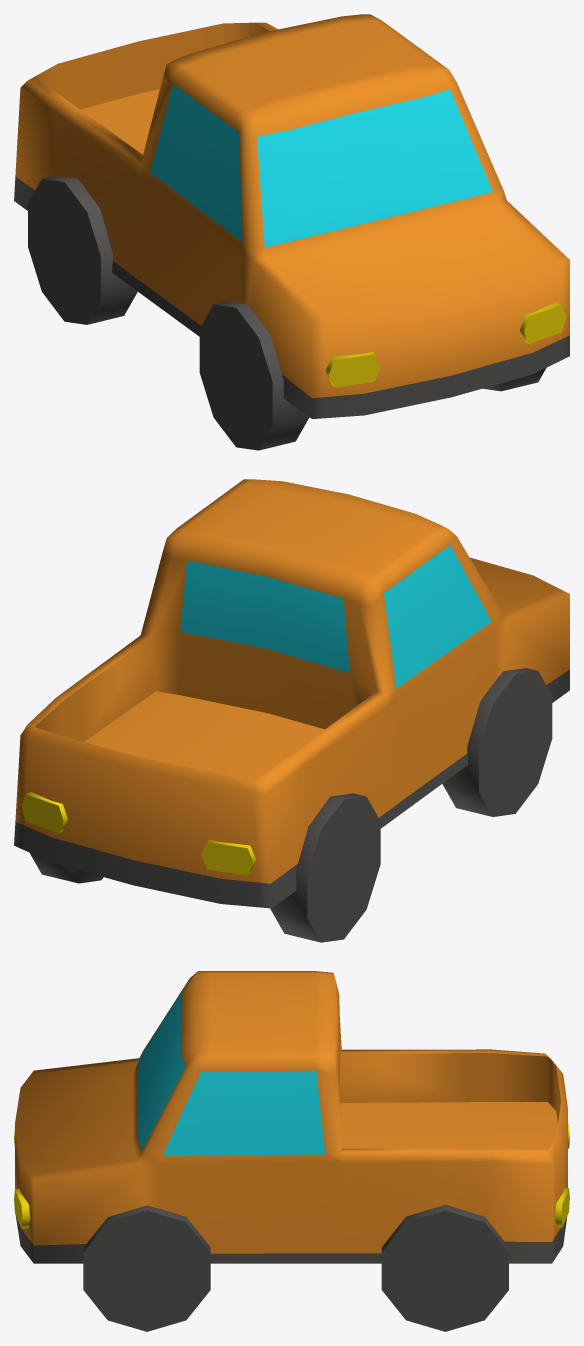
Rendered from Caminhonete.fbx.
The picture shows the model from 3 angles, top to bottom: view 1: azimuth 30°, elevation 25°; view 2: azimuth 150°, elevation 25°; view 3: azimuth 270°, elevation 25°; orthographic projection. The views are drawn at different scales.
Visible parts, largest first — view 1: Caminhonete; view 2: Caminhonete; view 3: Caminhonete.
Part boxes in pixels (box(x1,y1,x2,y2)): Caminhonete: box(14, 14, 569, 450); Caminhonete: box(14, 479, 569, 942); Caminhonete: box(14, 971, 569, 1331).
Size of the model in its own units: 7.71 by 8.04 by 15.29.
